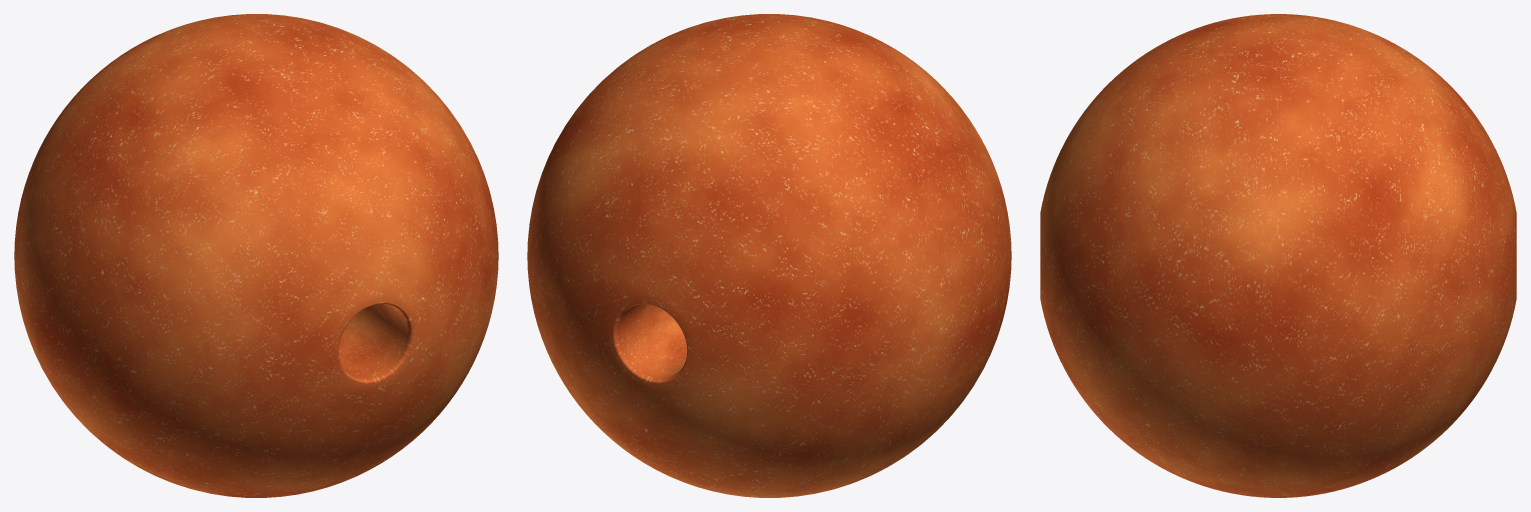
Rendered from sunstone-6mm.glb.
The picture shows the model from 3 angles, left to right: view 1: azimuth 30°, elevation 25°; view 2: azimuth 150°, elevation 25°; view 3: azimuth 270°, elevation 25°; orthographic projection.
Parts seen in each view (by area): view 1: sunstone.001; view 2: sunstone.001; view 3: sunstone.001.
Part boxes in pixels (<box>): sunstone.001: <box>14,14,498,497</box>; sunstone.001: <box>527,14,1011,497</box>; sunstone.001: <box>1040,14,1516,497</box>.
Size of the model in its own units: 0.006 by 0.006 by 0.0059.
1 material, 1 textured.
